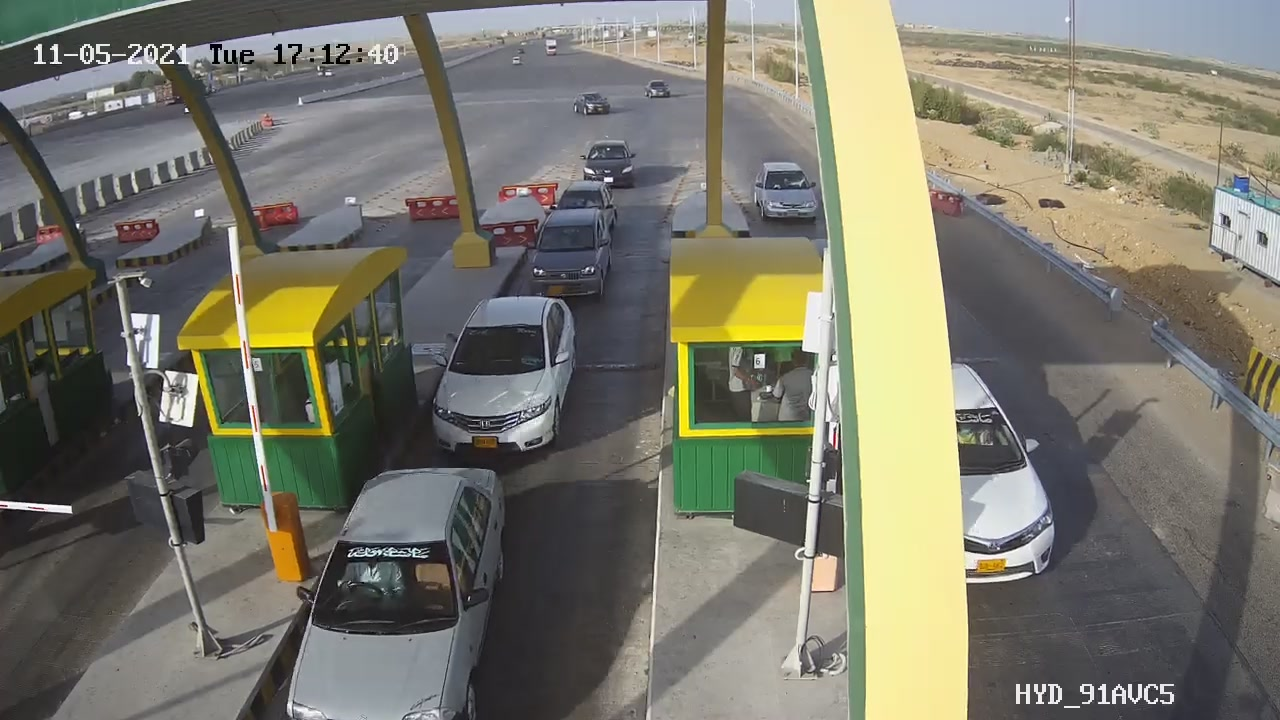F1: (418, 281, 595, 479), (517, 196, 620, 318)
